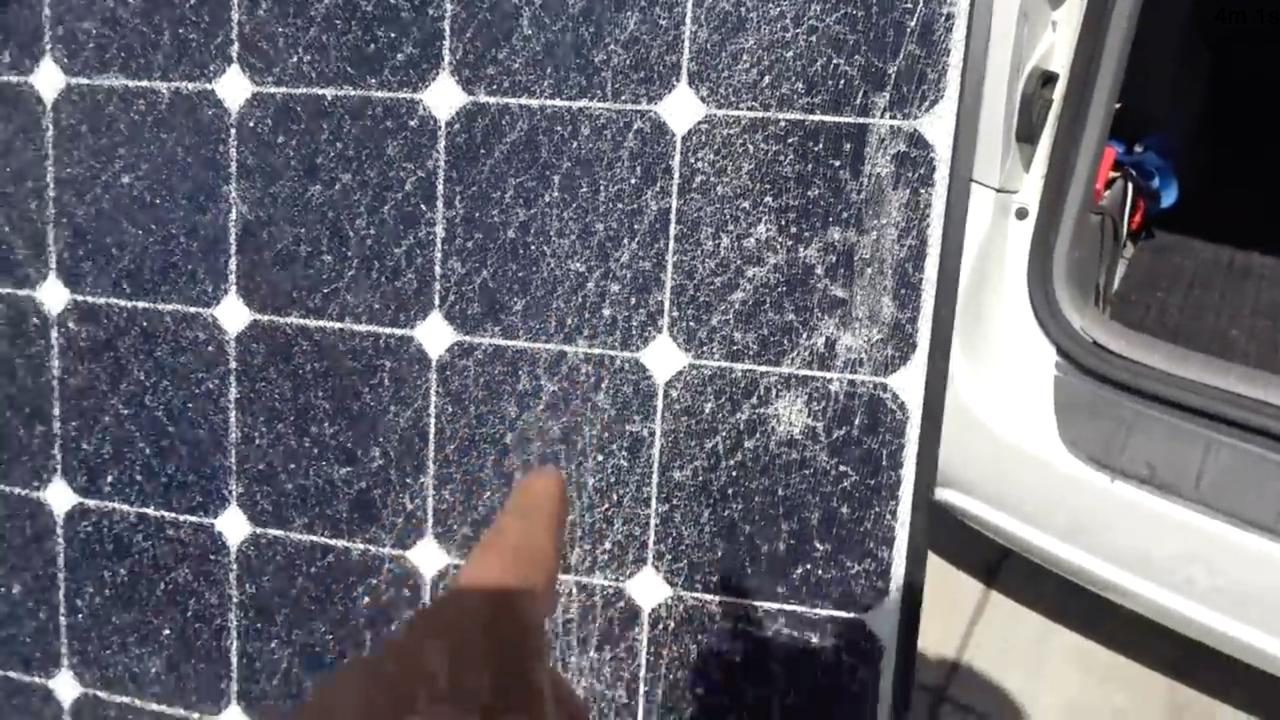Crack: (247, 10, 903, 456), (2, 7, 237, 645), (581, 464, 899, 691)
